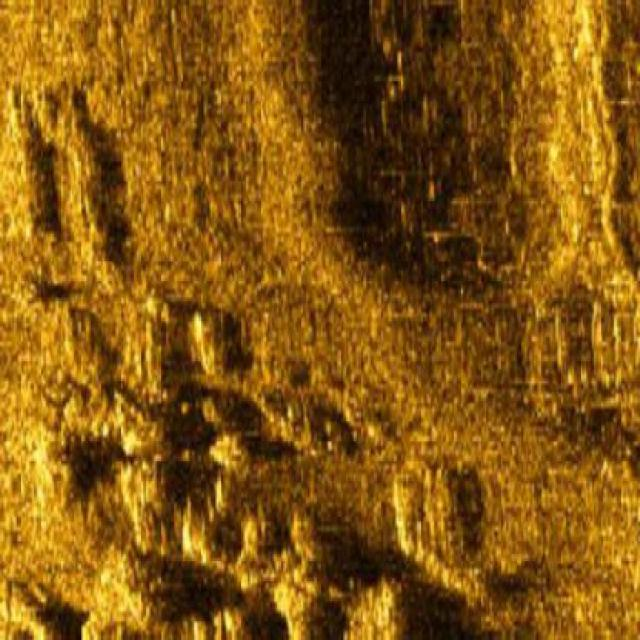bedrock group: (0, 79, 485, 639)
